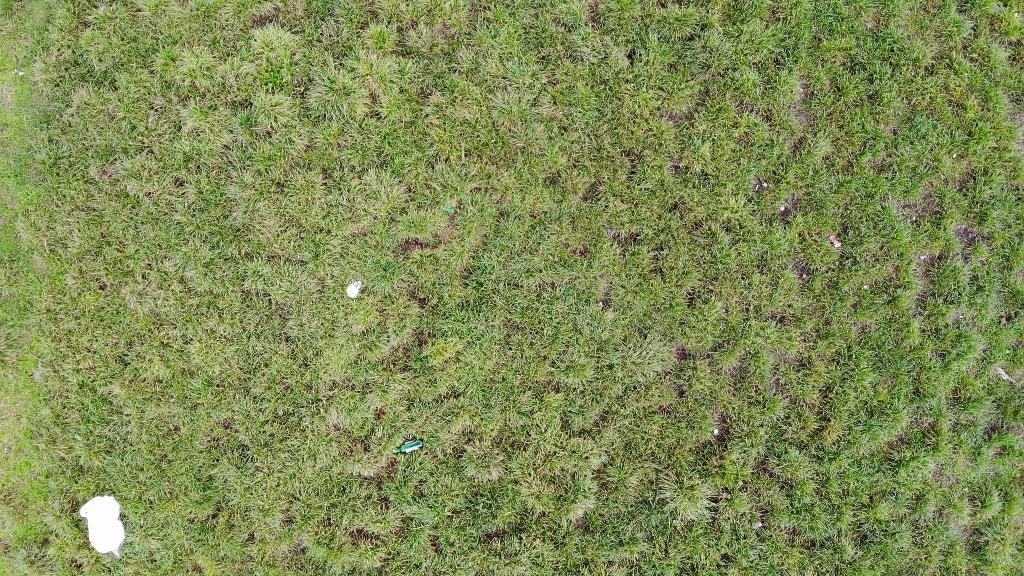garbage: (77, 491, 133, 564), (79, 494, 126, 553), (391, 433, 427, 460), (391, 435, 424, 452), (345, 279, 364, 298), (829, 234, 845, 247)
